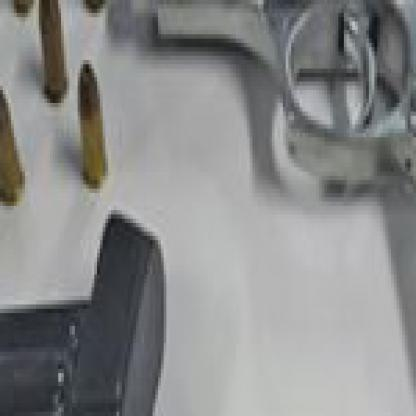gun: (122, 0, 413, 412)
